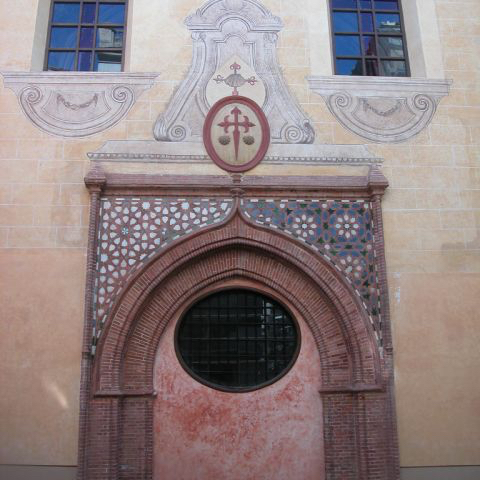arco-apuntado: (138, 265, 334, 399)
arco-conopial: (150, 195, 326, 257)
